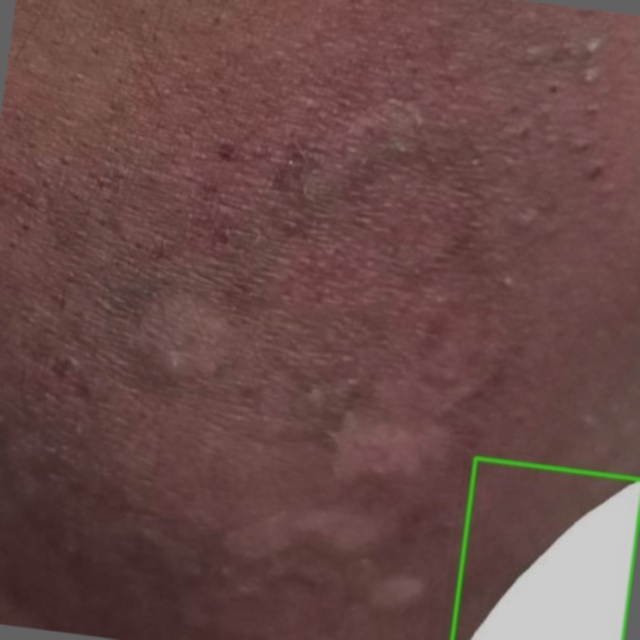Eczema: (452, 458, 639, 639)
